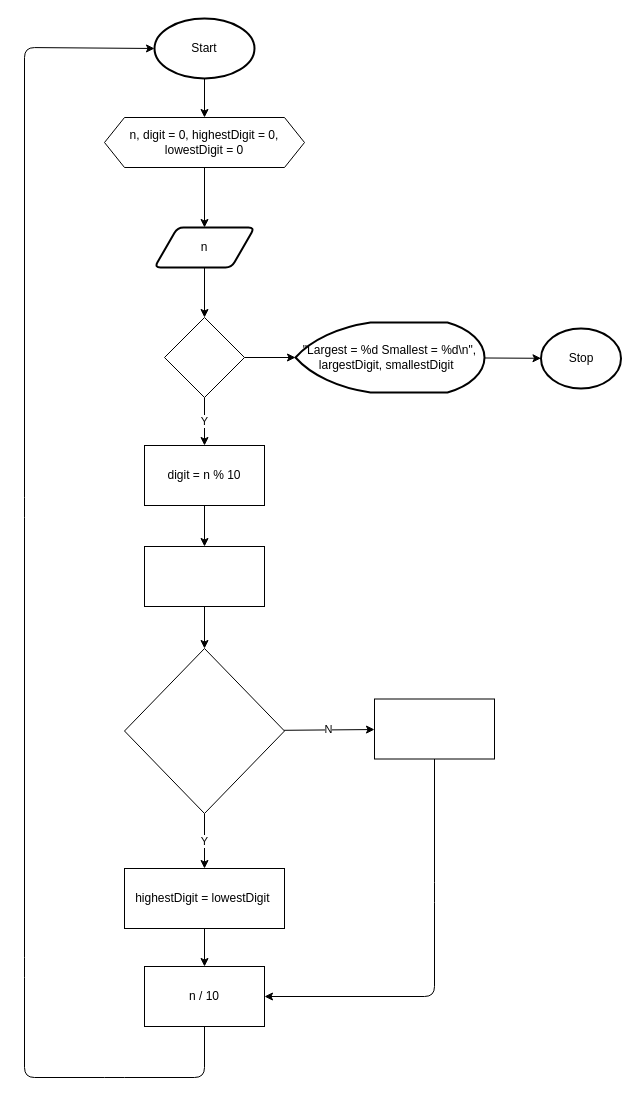
Image size: 639x1103. Some labels were removed from this diagram. The centre of each missing label's shape, as x and y in pixels:
"highestDigit < lowestDigit" belongs at (204,731).
"highestDigit = digit" belongs at (204,576).
"lowestDigit = digit" belongs at (434,728).
"n >= 0" belongs at (204,357).
